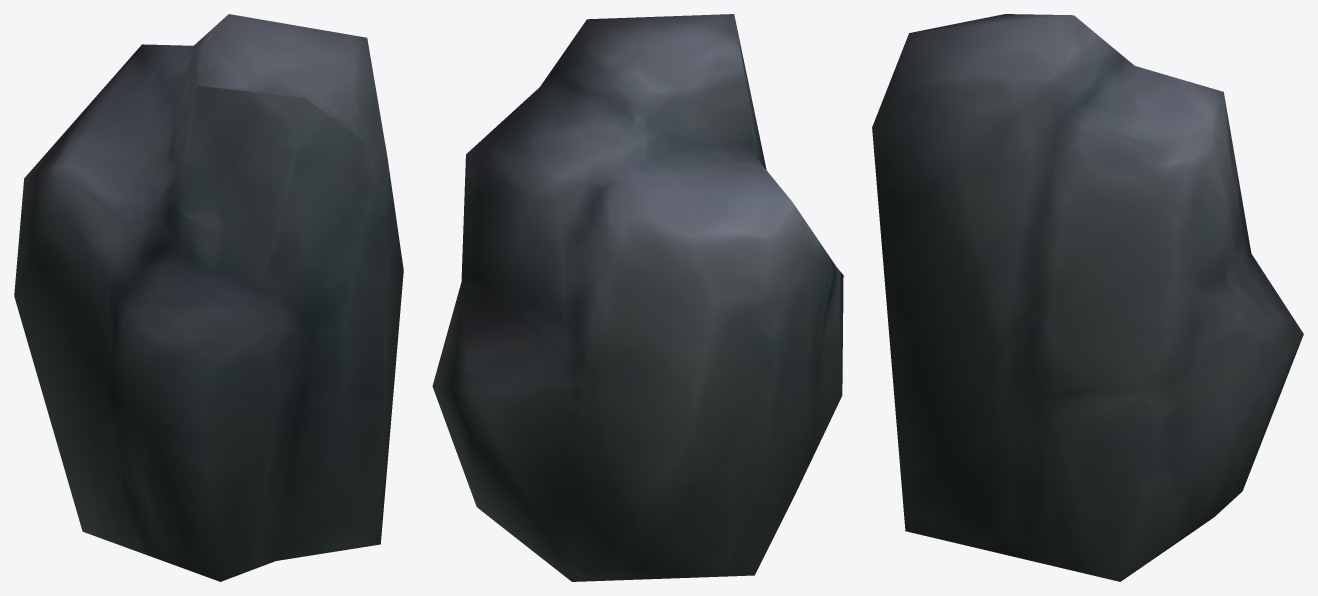
Rendered from TwistedJungle_Stone04.FBX.
The picture shows the model from 3 angles, left to right: view 1: azimuth 30°, elevation 25°; view 2: azimuth 150°, elevation 25°; view 3: azimuth 270°, elevation 25°; orthographic projection. The views are drawn at different scales.
Visible parts, largest first — view 1: TwistedJungle_Stone04; view 2: TwistedJungle_Stone04; view 3: TwistedJungle_Stone04.
Boxes of the visible parts, x1,y1,x2,y2 form: TwistedJungle_Stone04: [14, 14, 403, 581]; TwistedJungle_Stone04: [432, 14, 843, 581]; TwistedJungle_Stone04: [872, 14, 1303, 581].
Bounding box in the file's own units: 46.09 × 70.34 × 54.76.
